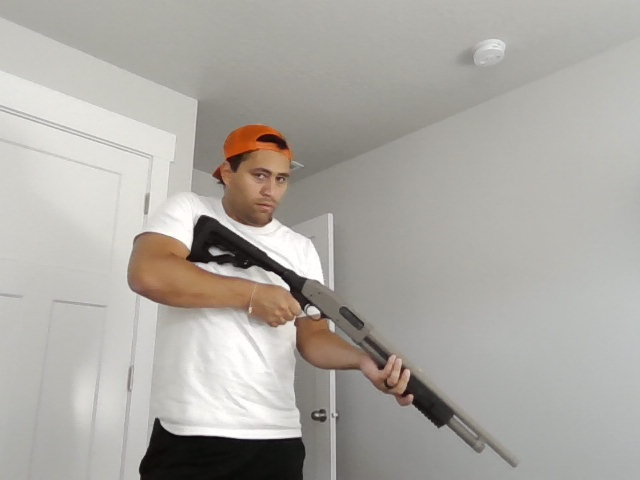shotgun: (190, 211, 521, 470)
